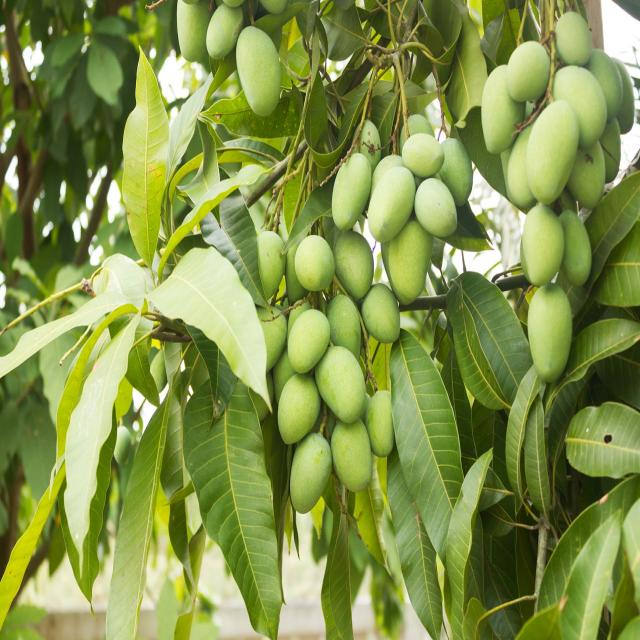mango: (521, 95, 578, 194), (552, 65, 607, 148), (527, 284, 574, 378), (236, 25, 282, 117), (385, 218, 433, 303), (316, 346, 366, 424), (481, 66, 525, 154), (520, 203, 566, 287), (368, 166, 414, 243), (289, 433, 332, 511), (330, 420, 371, 493), (278, 374, 320, 444), (332, 152, 369, 231), (558, 209, 594, 289), (566, 138, 606, 210), (287, 307, 329, 373), (414, 176, 458, 238), (332, 230, 370, 299), (438, 136, 473, 206), (294, 234, 334, 294), (362, 284, 399, 348), (177, 0, 213, 64), (206, 3, 245, 62), (554, 10, 592, 67), (256, 230, 286, 302), (365, 390, 394, 458), (402, 132, 444, 178)
